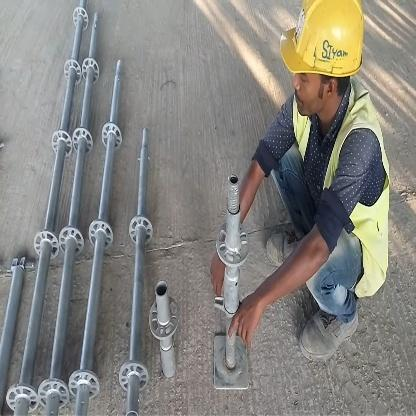helmet: (271, 0, 369, 136)
